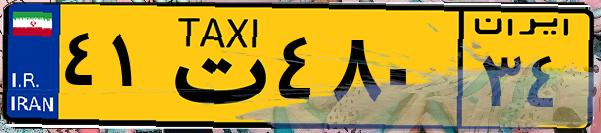0: (385, 28, 445, 110)
1: (110, 28, 158, 98)
3: (475, 38, 525, 113)
4: (270, 28, 330, 110), (57, 26, 110, 100), (525, 38, 570, 115)
8: (330, 28, 385, 110)
ت: (158, 12, 270, 120)
